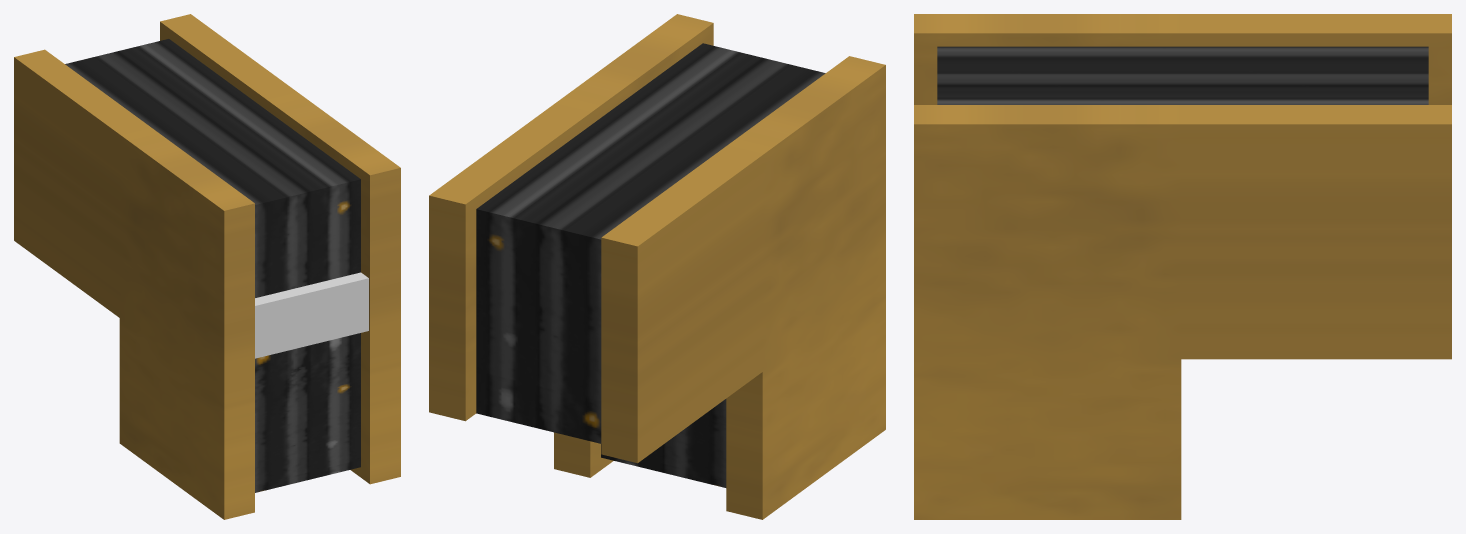
File: Robot 6 head.fbx
The picture shows the model from 3 angles, left to right: view 1: azimuth 30°, elevation 25°; view 2: azimuth 150°, elevation 25°; view 3: azimuth 270°, elevation 25°; orthographic projection. The views are drawn at different scales.
Parts seen in each view (by area): view 1: Cube.001; view 2: Cube.001; view 3: Cube.001.
Boxes of the visible parts, bbox=[...] form: Cube.001: bbox=[14, 14, 400, 519]; Cube.001: bbox=[429, 14, 885, 519]; Cube.001: bbox=[914, 14, 1451, 519].
Size of the model in its own units: 94.91 by 159 by 195.
